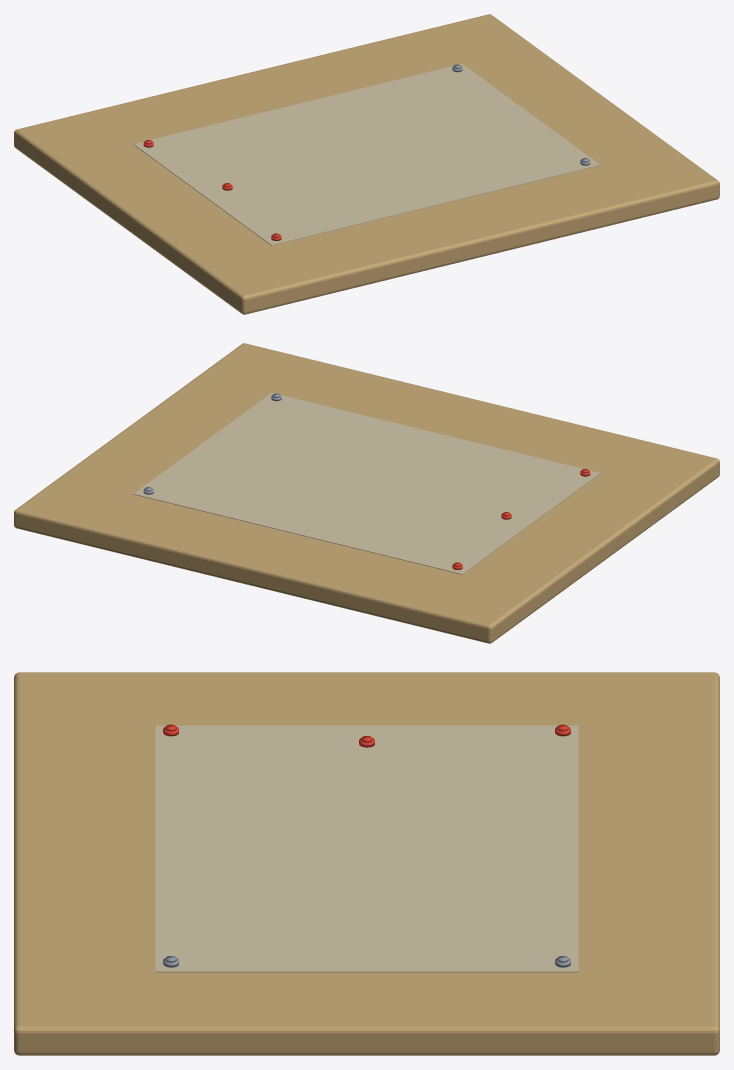
Rendered from force_board.glb.
3 views of the same model, one above another, from view 1: azimuth 30°, elevation 25°; view 2: azimuth 150°, elevation 25°; view 3: azimuth 270°, elevation 25° (orthographic). The views are drawn at different scales.
Parts seen in each view (by area): view 1: board, paper; view 2: board, paper; view 3: board, paper.
Boxes of the visible parts, x1=… form: board: x1=14, y1=14, x2=719, y2=314; paper: x1=133, y1=64, x2=600, y2=245; board: x1=14, y1=343, x2=719, y2=643; paper: x1=133, y1=393, x2=600, y2=574; board: x1=14, y1=672, x2=719, y2=1055; paper: x1=155, y1=725, x2=578, y2=972.
Bounding box in the file's own units: 0.48 × 0.0224 × 0.4.
